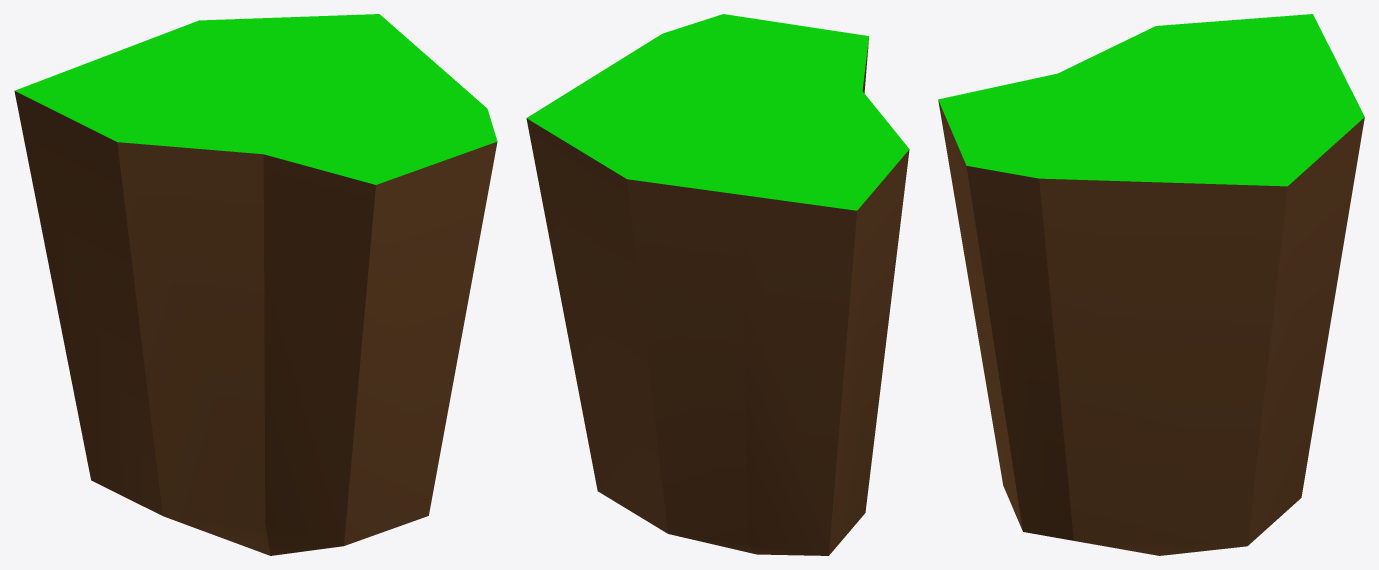
The model's file is Island07.fbx.
3 views of the same model, side by side, from view 1: azimuth 30°, elevation 25°; view 2: azimuth 150°, elevation 25°; view 3: azimuth 270°, elevation 25° (orthographic). The views are drawn at different scales.
Visible parts, largest first — view 1: New_Game_Object__6_; view 2: New_Game_Object__6_; view 3: New_Game_Object__6_.
Part boxes in pixels (x1=…): New_Game_Object__6_: x1=14, y1=14, x2=497, y2=555; New_Game_Object__6_: x1=526, y1=14, x2=909, y2=555; New_Game_Object__6_: x1=938, y1=14, x2=1364, y2=555.
Size of the model in its own units: 952 by 996 by 1170.
